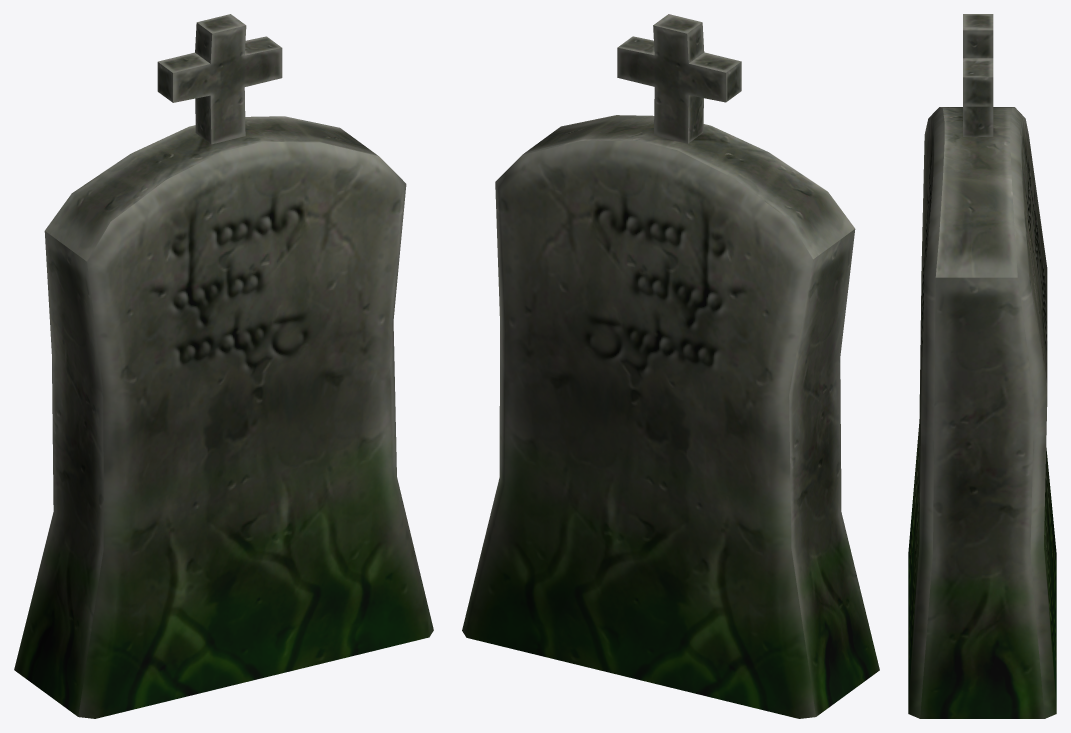
File: TombStone03.FBX
3 renders of one model, left to right at view 1: azimuth 30°, elevation 25°; view 2: azimuth 150°, elevation 25°; view 3: azimuth 270°, elevation 25°, orthographic. The views are drawn at different scales.
Visible parts, largest first — view 1: TombStone03; view 2: TombStone03; view 3: TombStone03.
Part boxes in pixels (x1,y1,x2,y2): TombStone03: [14, 14, 433, 718]; TombStone03: [462, 14, 879, 718]; TombStone03: [908, 14, 1056, 718].
Size of the model in its own units: 15.11 by 25.54 by 5.64.
